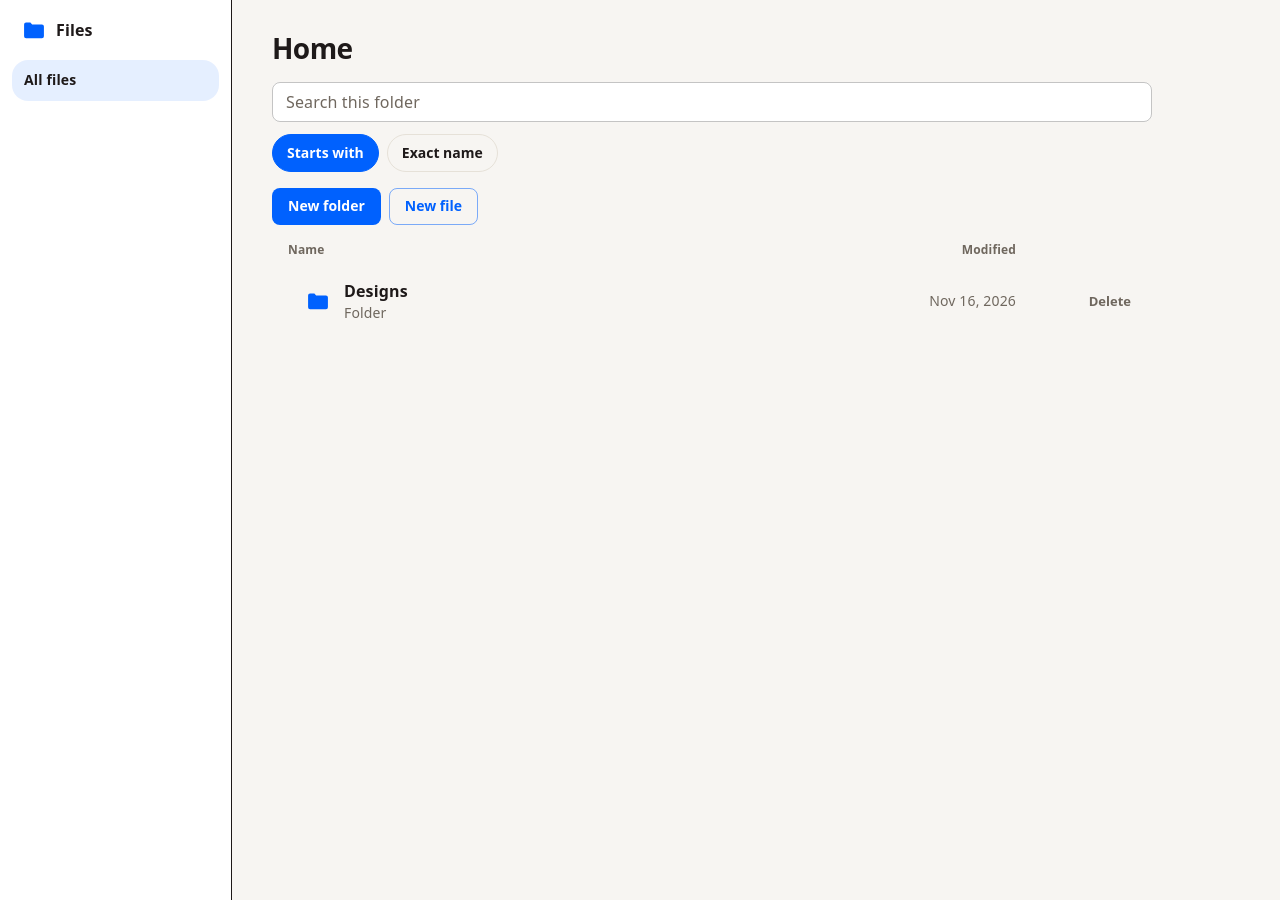
delete › treats a 404 as already gone
Click the button with aria-label "Delete Designs". click: [1110, 301]
box: [1084,285,1136,316]
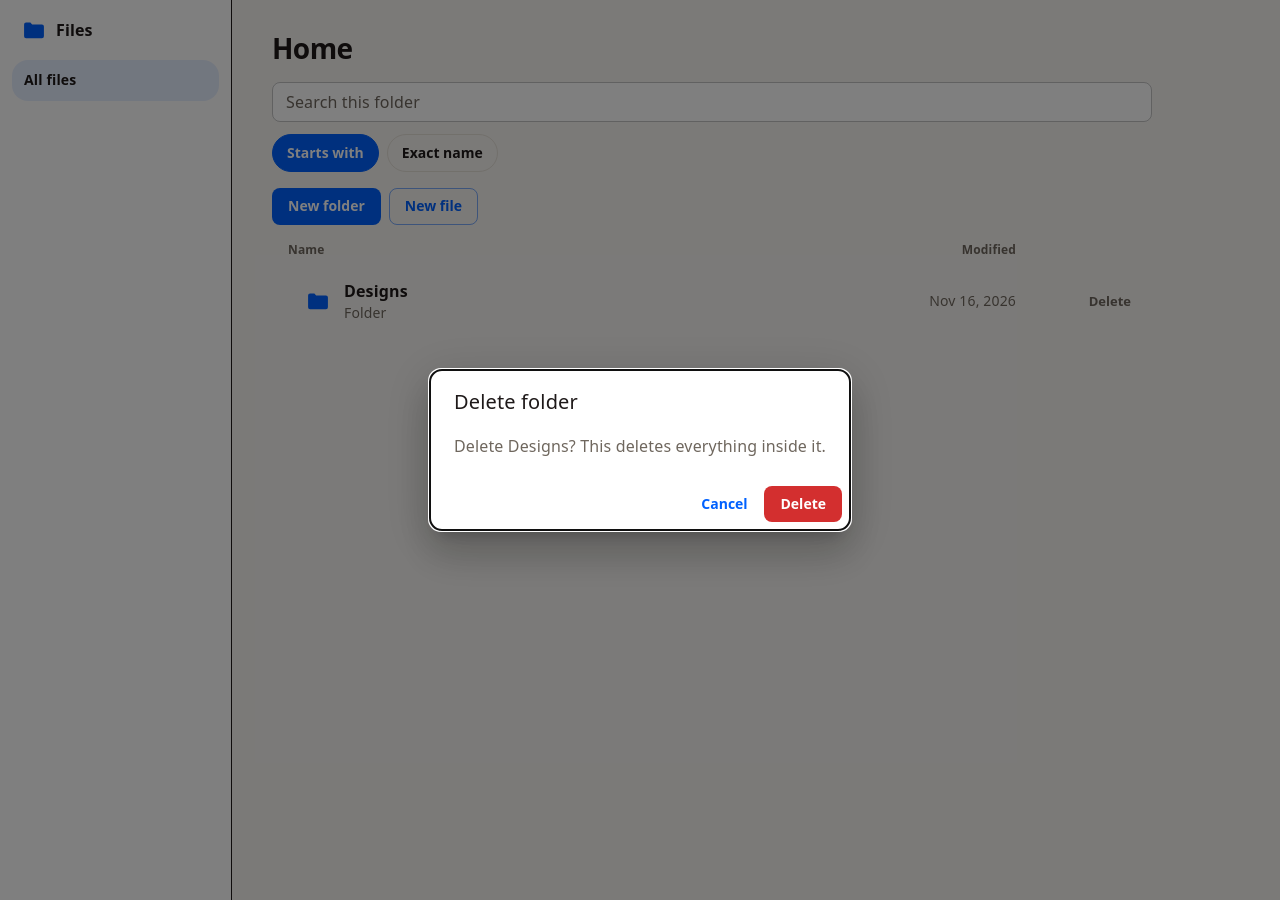
Click the button "Delete". click: [803, 504]
box: [764,486,842,522]
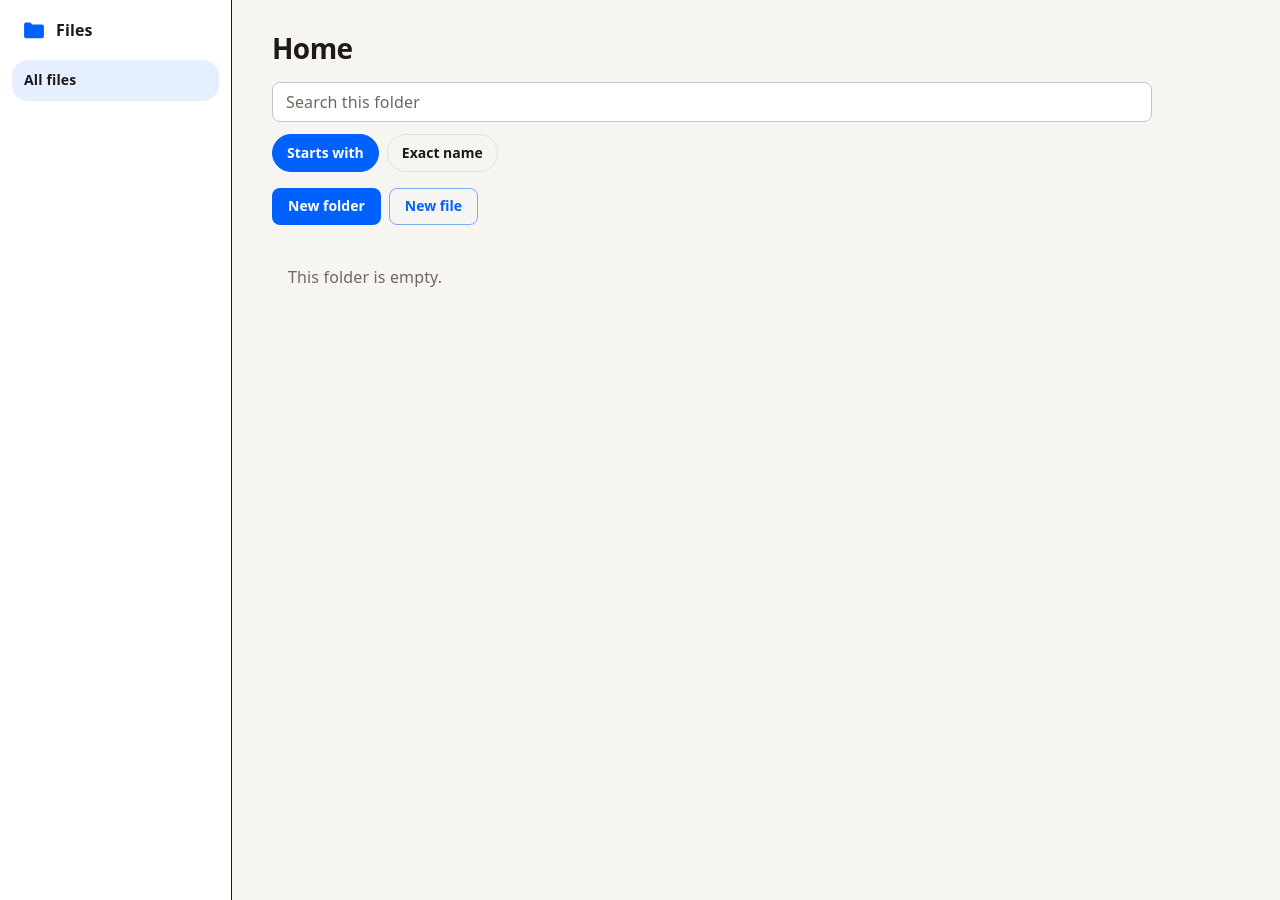
expect the link "Designs" is gone: met
